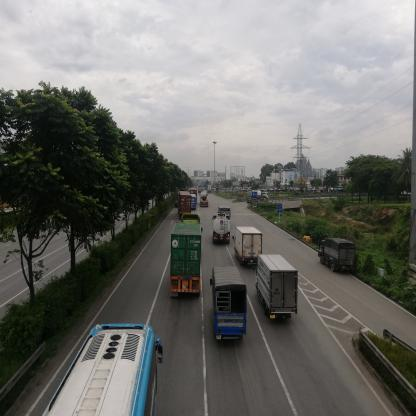bus: (59, 327, 160, 416)
container: (172, 215, 202, 295), (179, 191, 193, 214), (202, 193, 209, 209)
truck: (213, 267, 250, 345), (257, 255, 297, 315), (320, 235, 359, 276), (235, 228, 263, 258), (214, 215, 231, 241), (249, 192, 272, 205), (220, 207, 231, 217)
